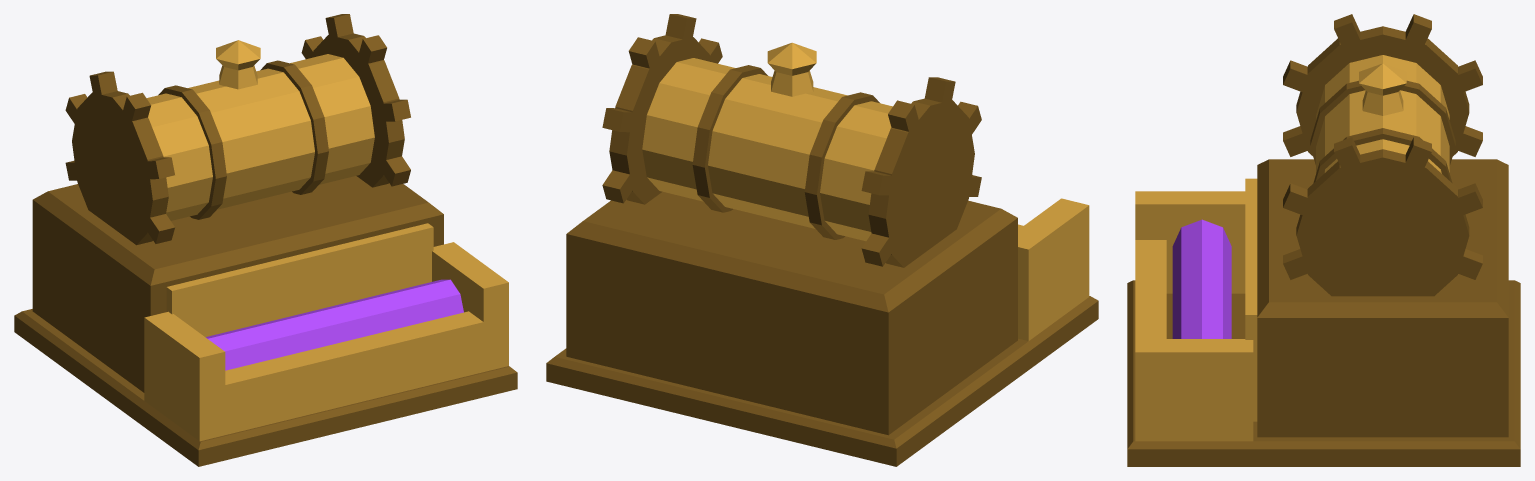
File: lane_emitter.glb
The picture shows the model from 3 angles, left to right: view 1: azimuth 30°, elevation 25°; view 2: azimuth 150°, elevation 25°; view 3: azimuth 270°, elevation 25°; orthographic projection. The views are drawn at different scales.
Visible parts, largest first — view 1: lane_emitter_body; view 2: lane_emitter_body; view 3: lane_emitter_body.
Part boxes in pixels (bbox=[...]): lane_emitter_body: bbox=[14, 14, 517, 466]; lane_emitter_body: bbox=[546, 14, 1098, 466]; lane_emitter_body: bbox=[1127, 14, 1520, 466].
Size of the model in its own units: 1 by 0.9 by 1.
